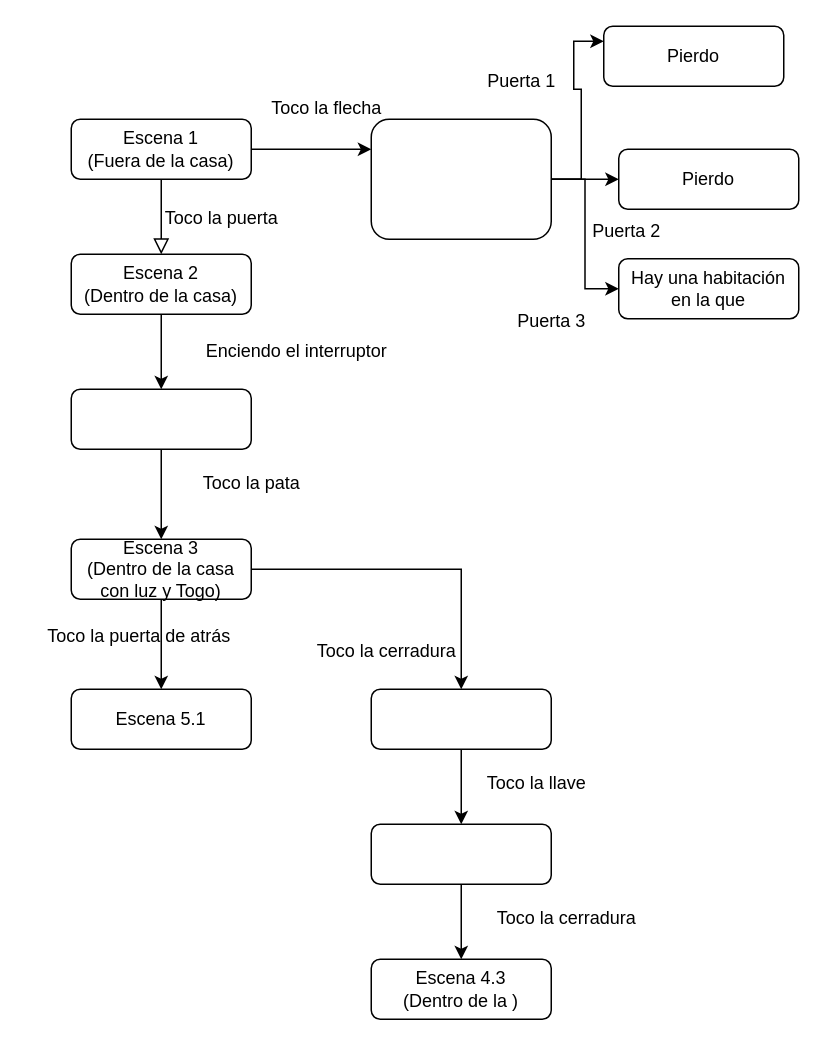
This 825x1046 diagram has some shape labels left out. The shapes that lost their labels are listed below. From the top down, each one's box as (x1, y1, x2, y2) in pixels, then its label:
(370, 118, 551, 239): Escena Secreta (Detrás de la casa hay 3 puertas cada una con distintos números)
(70, 388, 251, 449): Escena 3 (Dentro de la casa con luz)
(370, 688, 551, 749): Escena 4.1 (Aparece la llave)
(370, 823, 551, 884): Escena 4.2 (La llave se mete en la cerradura)
